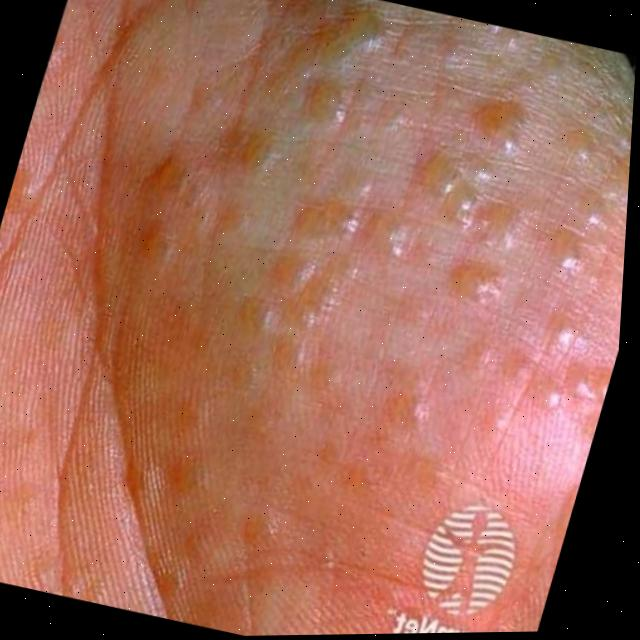Eczema: (161, 43, 637, 522)
